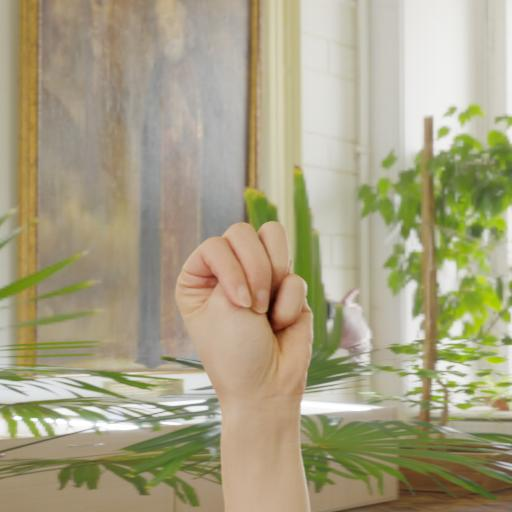M: (166, 215, 328, 512)
